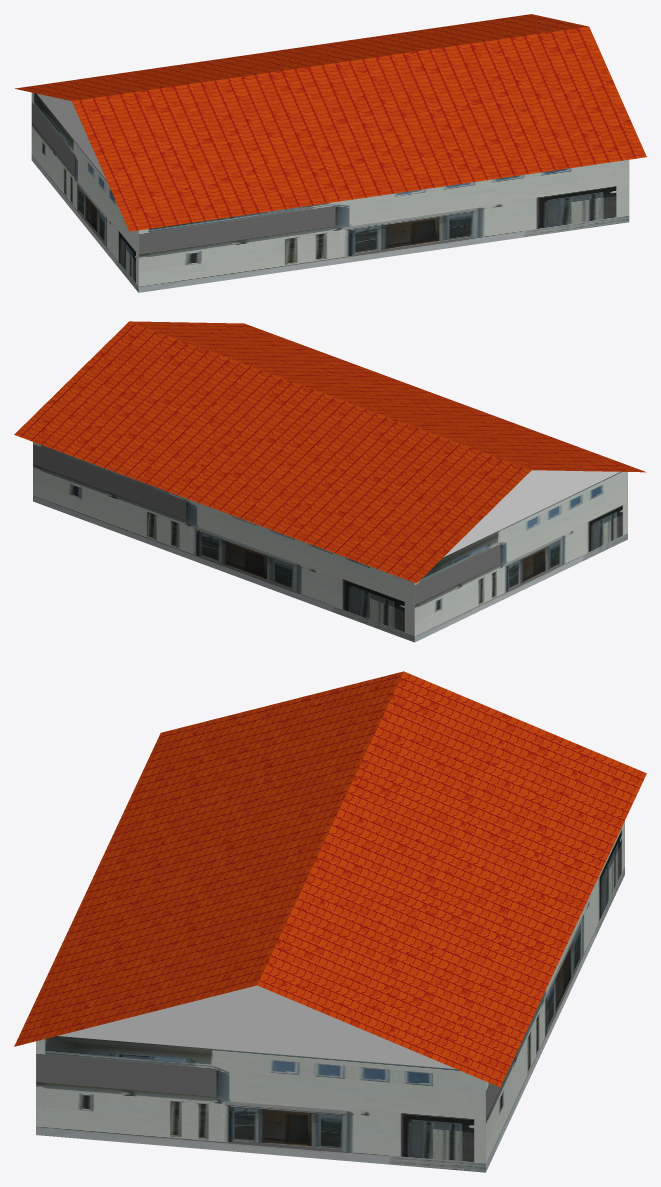
The picture shows the model from 3 angles, top to bottom: view 1: azimuth 30°, elevation 25°; view 2: azimuth 150°, elevation 25°; view 3: azimuth 270°, elevation 25°; orthographic projection. The views are drawn at different scales.
Visible parts, largest first — view 1: CityEngineMaterial_12_m, CityEngineMaterial_11_m, CityEngineMaterial_3_m; view 2: CityEngineMaterial_12_m, CityEngineMaterial_11_m, CityEngineMaterial_3_m; view 3: CityEngineMaterial_12_m, CityEngineMaterial_11_m, CityEngineMaterial_3_m.
Boxes of the visible parts, <box> form: CityEngineMaterial_12_m: <box>15,14,646,231</box>; CityEngineMaterial_11_m: <box>31,92,629,292</box>; CityEngineMaterial_3_m: <box>37,93,106,179</box>; CityEngineMaterial_12_m: <box>14,321,646,583</box>; CityEngineMaterial_11_m: <box>33,442,627,642</box>; CityEngineMaterial_3_m: <box>444,470,620,556</box>; CityEngineMaterial_12_m: <box>14,671,646,1086</box>; CityEngineMaterial_11_m: <box>36,821,624,1172</box>; CityEngineMaterial_3_m: <box>58,985,456,1069</box>.
Bounding box in the file's own units: 42.56 × 9.88 × 32.11.
